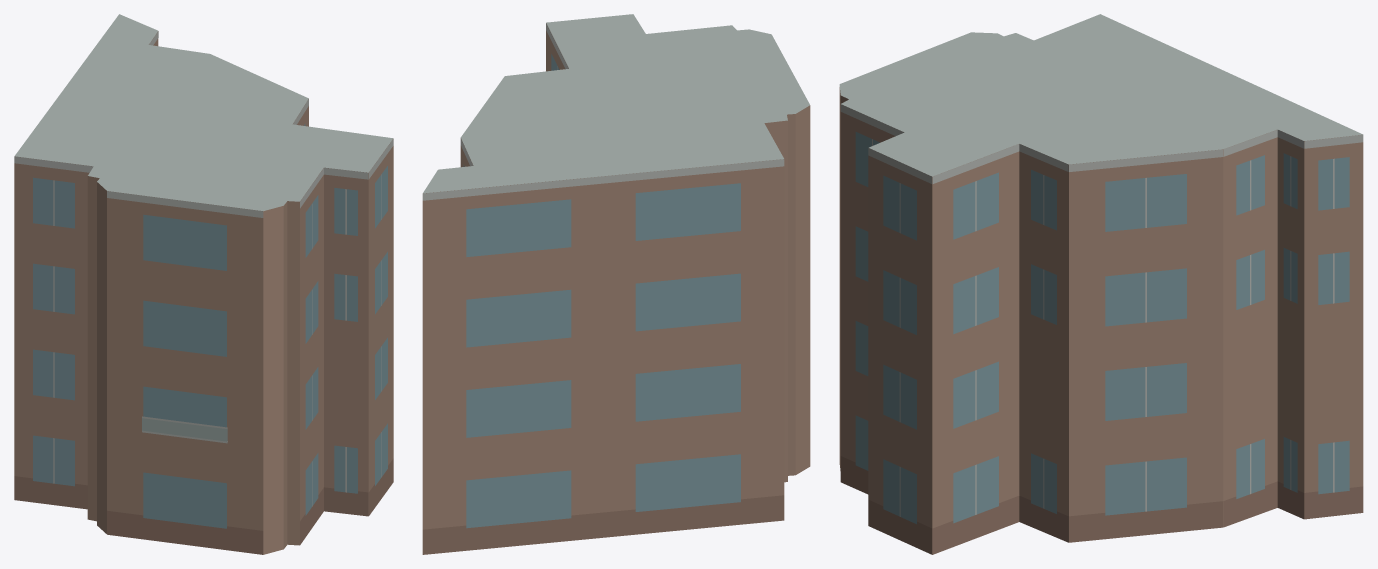
File: survey-upis-32618976.glb
3 renders of one model, left to right at view 1: azimuth 30°, elevation 25°; view 2: azimuth 150°, elevation 25°; view 3: azimuth 270°, elevation 25°, orthographic. The views are drawn at different scales.
Visible parts, largest first — view 1: survey-upis-32618976.tmp; view 2: survey-upis-32618976.tmp; view 3: survey-upis-32618976.tmp.
Boxes of the visible parts, bbox=[...] form: survey-upis-32618976.tmp: bbox=[14, 14, 393, 554]; survey-upis-32618976.tmp: bbox=[422, 14, 810, 554]; survey-upis-32618976.tmp: bbox=[839, 14, 1363, 554].
Size of the model in its own units: 11.08 by 12 by 15.07.
